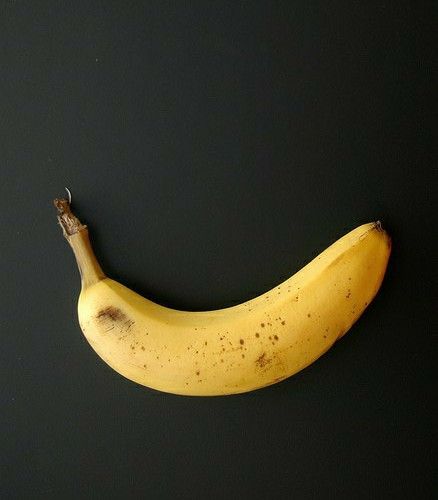normal_banana: (54, 199, 391, 395)
